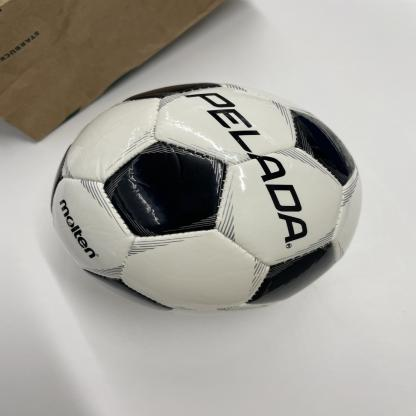ball: (52, 82, 364, 314)
